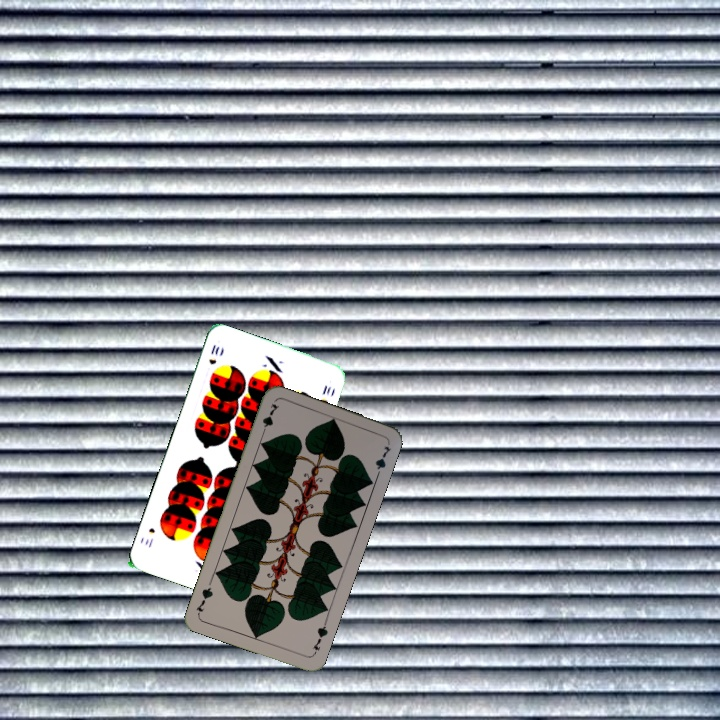G7: (257, 399, 281, 439), (308, 617, 330, 657)
S10: (205, 340, 222, 367)
